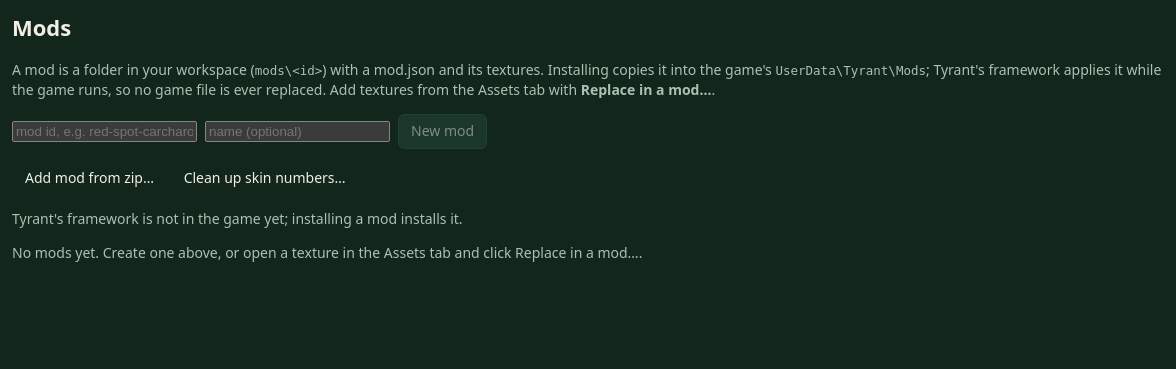
ModsView › adds a mod from a zip
Click the button "Add mod from zip…".
click(90, 178)  # box [12,161,167,195]
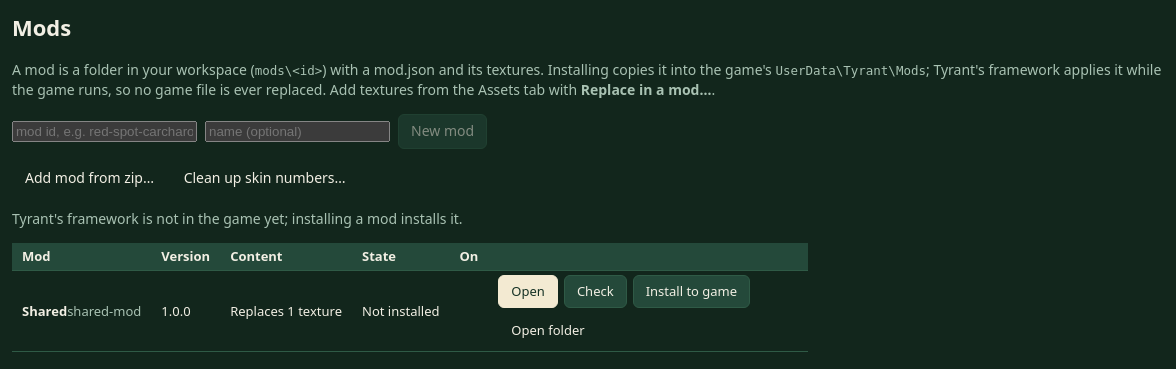
Result: the text "Shared" is shown at [22,302,67,320]
